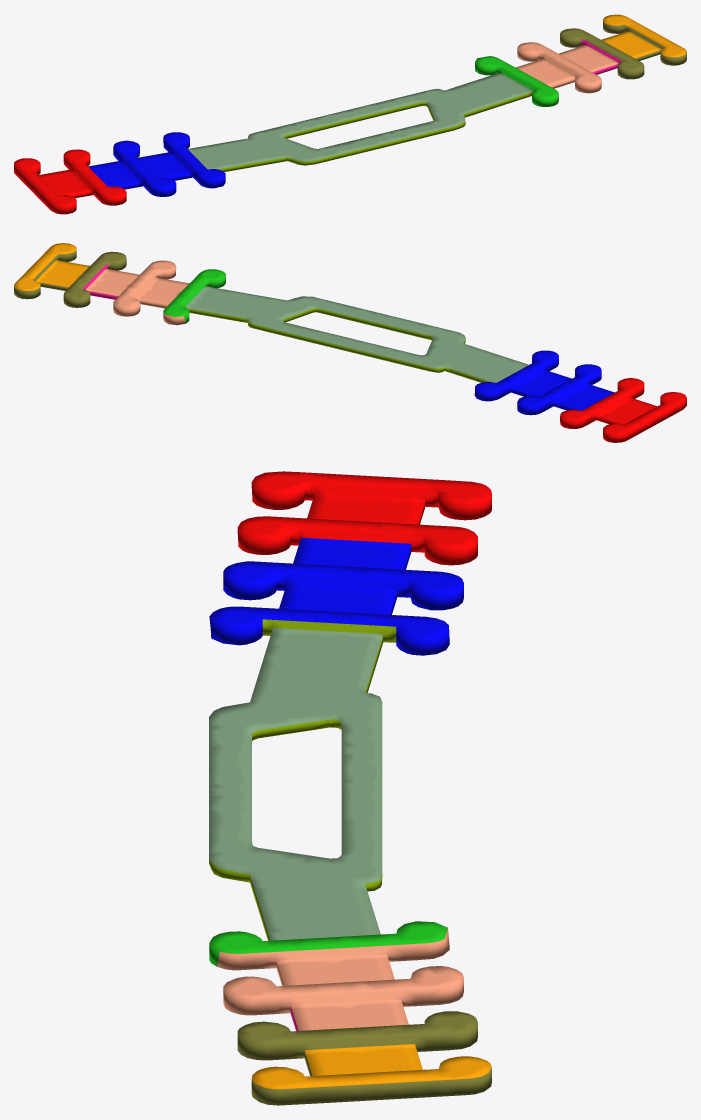
File: model_91_segmented_new.obj
3 renders of one model, top to bottom at view 1: azimuth 30°, elevation 25°; view 2: azimuth 150°, elevation 25°; view 3: azimuth 270°, elevation 25°, orthographic. The views are drawn at different scales.
Size of the model in its own units: 163 by 2.02 by 31.54.
